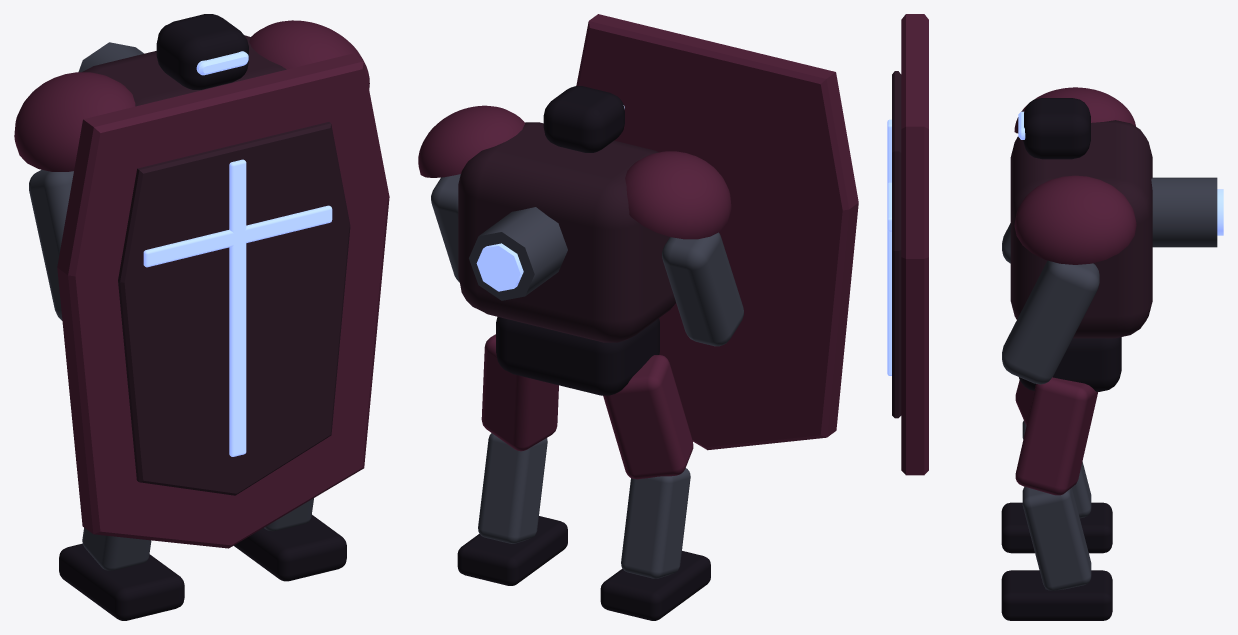
Rendered from shield.glb.
3 views of the same model, side by side, from view 1: azimuth 30°, elevation 25°; view 2: azimuth 150°, elevation 25°; view 3: azimuth 270°, elevation 25° (orthographic). The views are drawn at different scales.
Visible parts, largest first — view 1: shield:plate, shield:hull, torso:plate, shield:glow, legR:dark, torso:dark, legL:dark, torso:alloy, torso:hull, legR:alloy, torso:glow, legL:alloy; view 2: shield:plate, torso:hull, torso:alloy, torso:dark, torso:plate, legR:plate, legR:alloy, legL:alloy, legL:plate, legR:dark, legL:dark, torso:glow; view 3: torso:hull, shield:plate, torso:alloy, torso:plate, legL:plate, torso:dark, legL:alloy, legL:dark, shield:hull, legR:dark, shield:glow, legR:alloy (+2 smaller).
Part boxes in pixels (x1,y1,x2,y2): shield:plate: (57,53,389,548); shield:hull: (118,122,350,495); torso:plate: (14,20,369,171); shield:glow: (143,159,332,456); legR:dark: (59,543,184,620); torso:dark: (156,14,248,89); legL:dark: (234,514,346,581); torso:alloy: (29,42,143,320); torso:hull: (82,35,286,106); legR:alloy: (82,528,151,570); torso:glow: (196,51,248,75); legL:alloy: (264,498,313,531); shield:plate: (576,14,858,450); torso:hull: (458,122,675,342); torso:alloy: (431,174,743,346); torso:dark: (496,86,659,395); torso:plate: (418,105,731,239); legR:plate: (603,355,693,479); legR:alloy: (621,468,690,578); legL:alloy: (478,433,547,543); legL:plate: (481,334,558,451); legR:dark: (600,551,710,620); legL:dark: (457,516,567,585); torso:glow: (476,105,624,291); torso:hull: (1010,120,1152,338); shield:plate: (901,14,928,475); torso:alloy: (1002,177,1217,384); torso:plate: (1014,87,1136,264); legL:plate: (1015,377,1097,495); torso:dark: (1019,98,1121,391); legL:alloy: (1022,486,1091,590); legL:dark: (1001,570,1112,620); shield:hull: (892,71,901,418); legR:dark: (1001,502,1112,553); shield:glow: (887,119,891,375); legR:alloy: (1022,420,1091,518).
Size of the model in its own units: 1.25 by 1.72 by 1.09.
